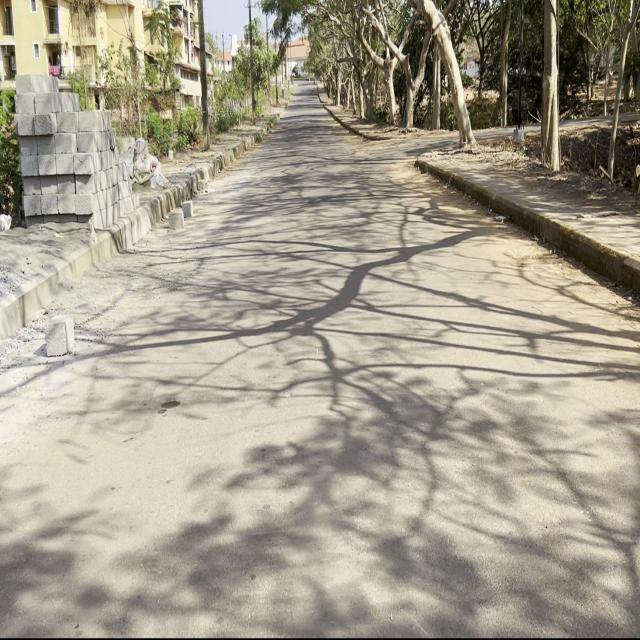Road: (3, 81, 635, 629)
